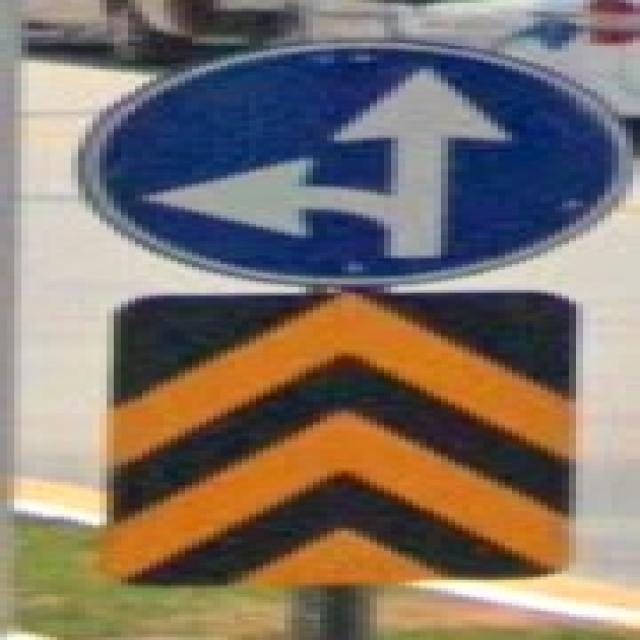Straight or Left: (72, 38, 634, 285)
